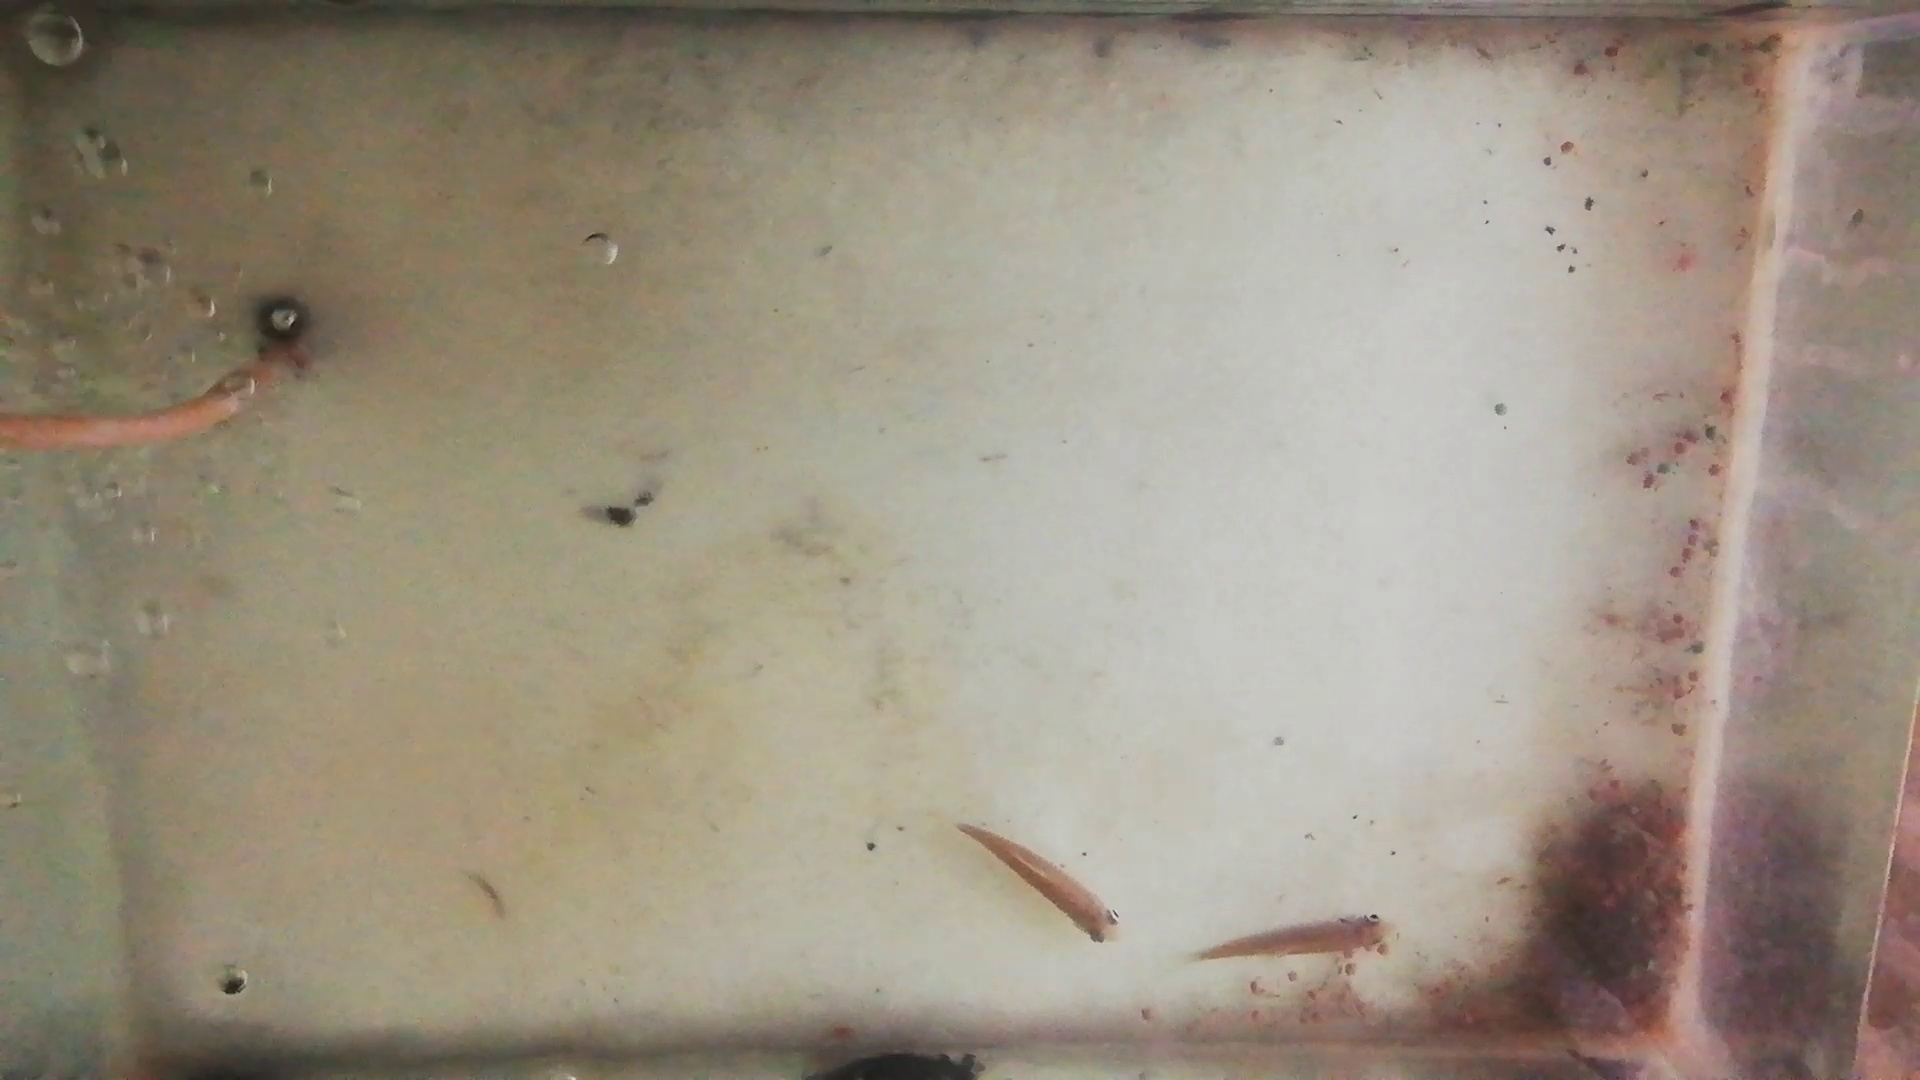fish: (956, 825, 1122, 945), (1203, 916, 1402, 960)
